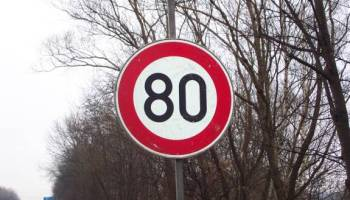Speed_limit_80km: (115, 39, 235, 158)
